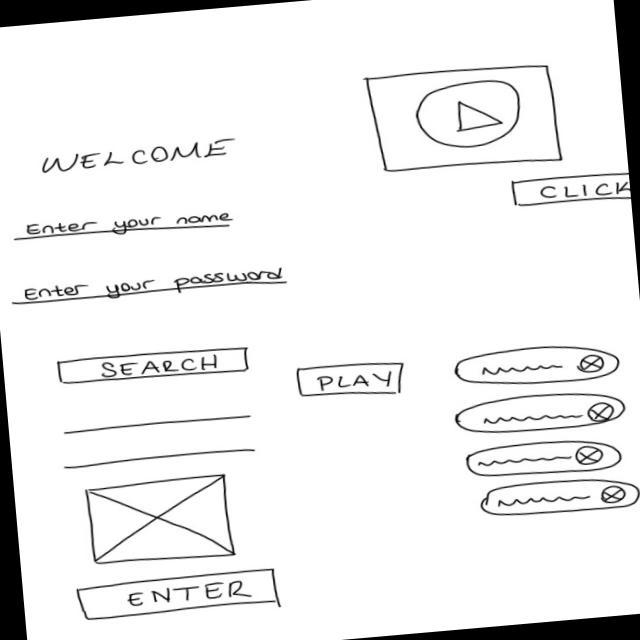button: (74, 565, 280, 623), (54, 341, 252, 390), (508, 168, 631, 212), (294, 357, 407, 402)
image: (82, 469, 236, 568)
input: (8, 262, 291, 310), (11, 204, 236, 247)
label: (38, 134, 241, 177)
